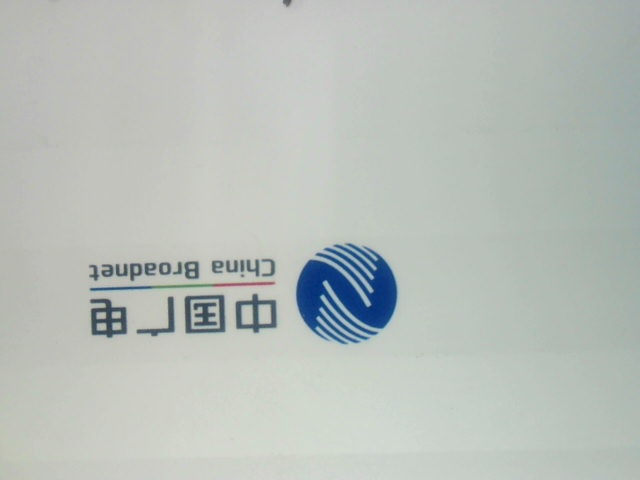AW_ChinaBroadNet: (74, 242, 406, 345)
